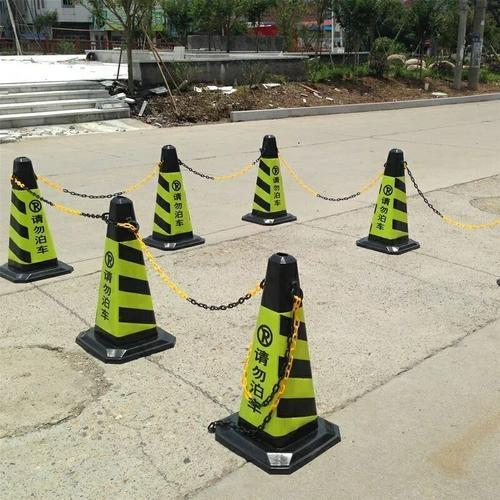cone_barrel: (218, 251, 340, 460), (80, 196, 173, 363), (2, 157, 68, 277), (356, 148, 420, 251), (143, 145, 202, 246), (241, 132, 296, 225)
